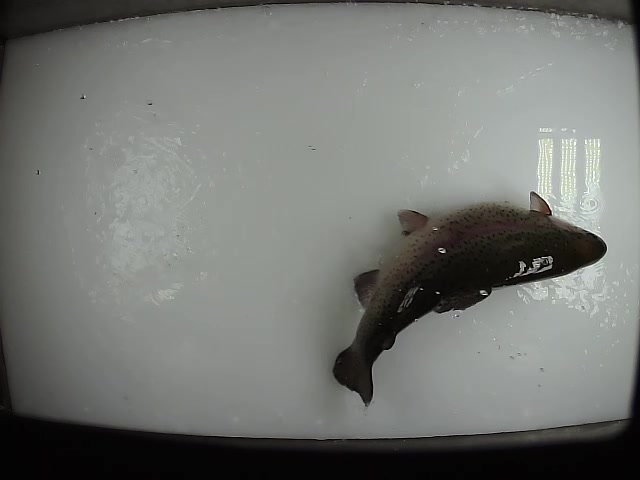fish: (330, 189, 609, 410)
